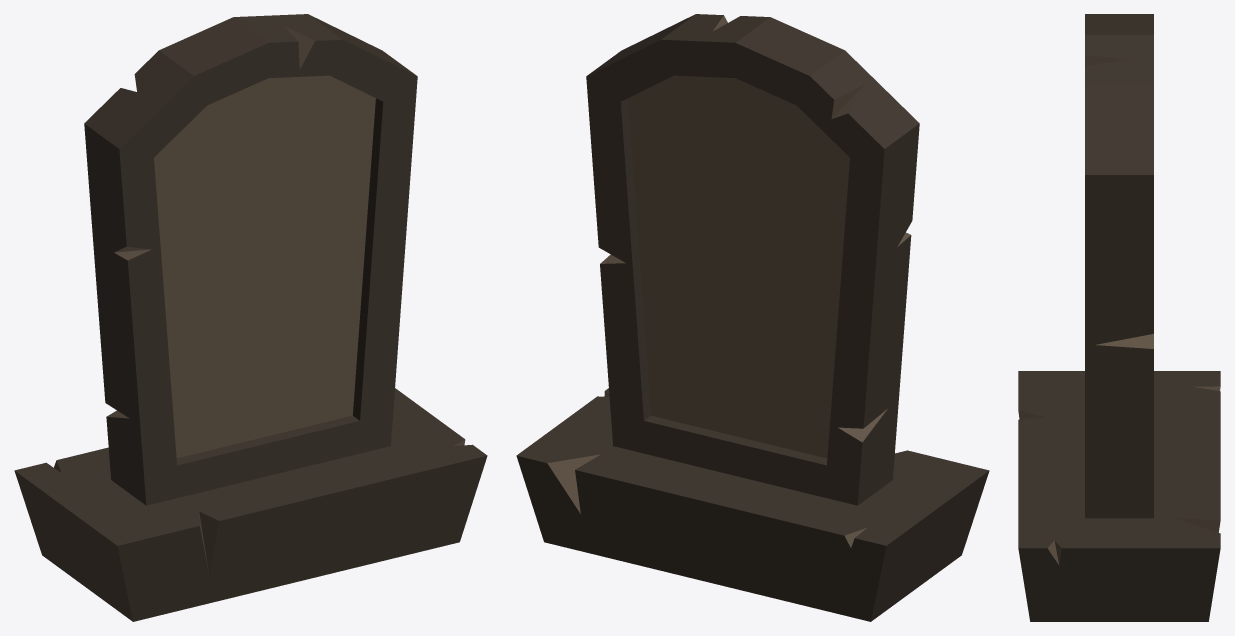
Rendered from Tombstone_1_Brown.fbx.
3 views of the same model, side by side, from view 1: azimuth 30°, elevation 25°; view 2: azimuth 150°, elevation 25°; view 3: azimuth 270°, elevation 25° (orthographic).
Visible parts, largest first — view 1: Tombstone_1_Brown_Part_1, Tombstone_1_Brown_Part_2; view 2: Tombstone_1_Brown_Part_1, Tombstone_1_Brown_Part_2; view 3: Tombstone_1_Brown_Part_1, Tombstone_1_Brown_Part_2.
Part boxes in pixels (left/top/right/bottom): Tombstone_1_Brown_Part_1: left=14, top=14, right=487, bottom=621; Tombstone_1_Brown_Part_2: left=54, top=25, right=465, bottom=574; Tombstone_1_Brown_Part_1: left=516, top=14, right=989, bottom=621; Tombstone_1_Brown_Part_2: left=547, top=15, right=910, bottom=547; Tombstone_1_Brown_Part_1: left=1018, top=14, right=1220, bottom=621; Tombstone_1_Brown_Part_2: left=1018, top=55, right=1220, bottom=565.
Bounding box in the file's own units: 89.31 × 120 × 43.1.
